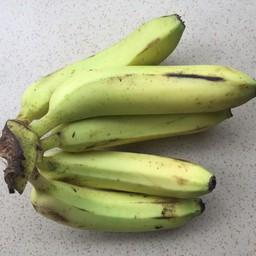Good_banana: (8, 12, 256, 118), (45, 58, 256, 118), (32, 170, 206, 235), (38, 146, 218, 198), (46, 118, 247, 154)
